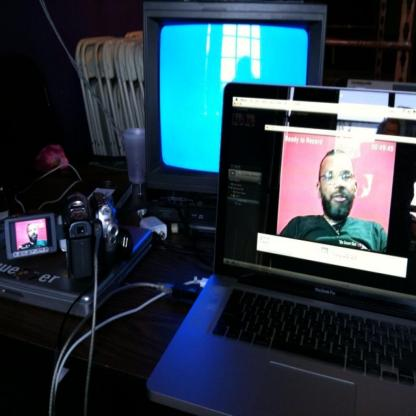board: (149, 57, 401, 416)
